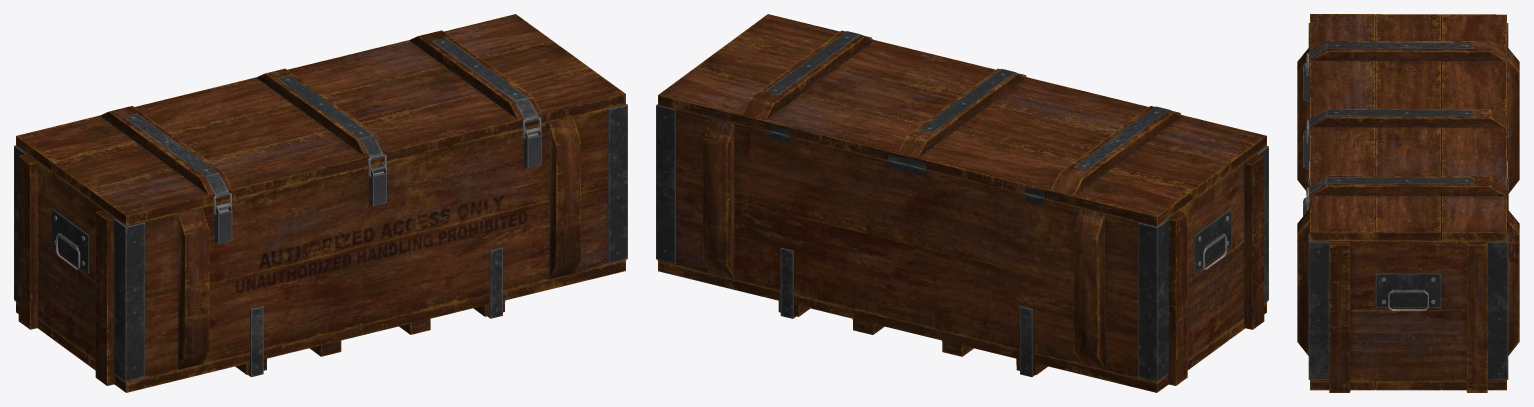
Rendered from wooden_military_crate.glb.
The picture shows the model from 3 angles, left to right: view 1: azimuth 30°, elevation 25°; view 2: azimuth 150°, elevation 25°; view 3: azimuth 270°, elevation 25°; orthographic projection. The views are drawn at different scales.
Visible parts, largest first — view 1: wooden_military_crate; view 2: wooden_military_crate; view 3: wooden_military_crate.
Part boxes in pixels (x1,y1,x2,y2): wooden_military_crate: (14, 14, 627, 392); wooden_military_crate: (656, 14, 1268, 392); wooden_military_crate: (1297, 14, 1519, 392).
Bounding box in the file's own units: 1.24 × 0.4642 × 0.5181.
1 material, 1 textured.
